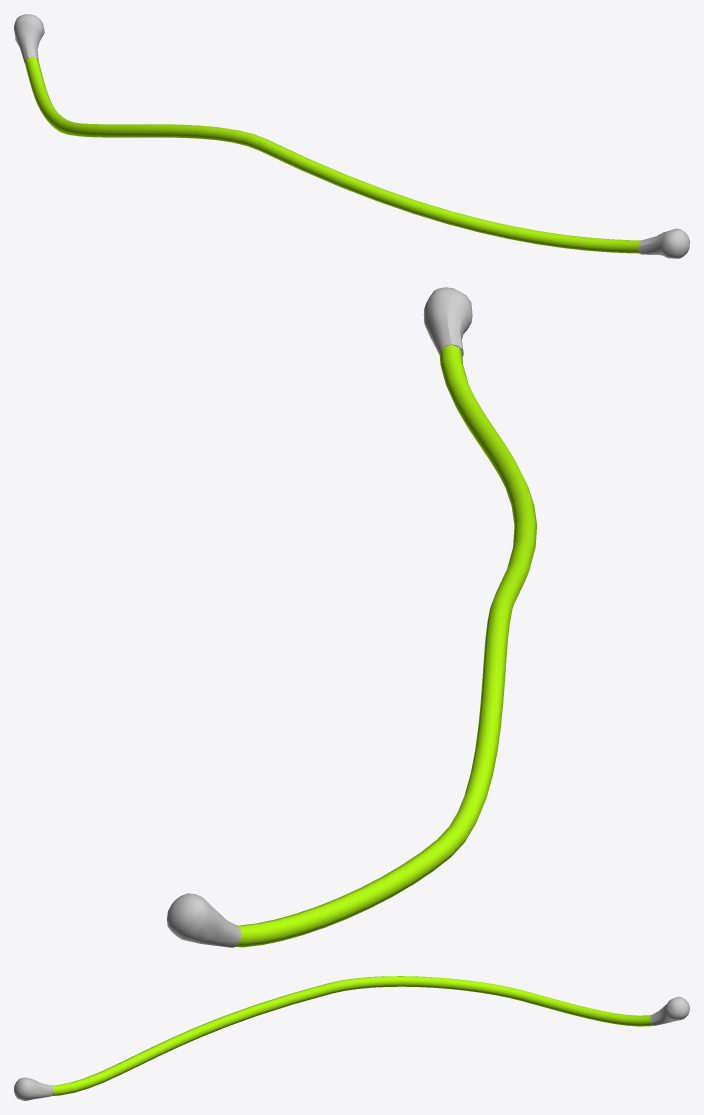
File: Wire.fbx
3 renders of one model, top to bottom at view 1: azimuth 30°, elevation 25°; view 2: azimuth 150°, elevation 25°; view 3: azimuth 270°, elevation 25°, orthographic. The views are drawn at different scales.
Parts seen in each view (by area): view 1: Wire, head_1, head_0; view 2: Wire, head_0, head_1; view 3: Wire, head_0, head_1.
Boxes of the visible parts, x1,y1,x2,y2 form: Wire: (24,57,640,253); head_1: (638,228,689,258); head_0: (14,14,44,63); Wire: (235,344,536,947); head_0: (167,893,241,947); head_1: (423,287,472,356); Wire: (52,976,653,1095); head_0: (650,996,689,1025); head_1: (14,1077,53,1100).
Size of the model in its own units: 7.98 by 1.76 by 17.86.
